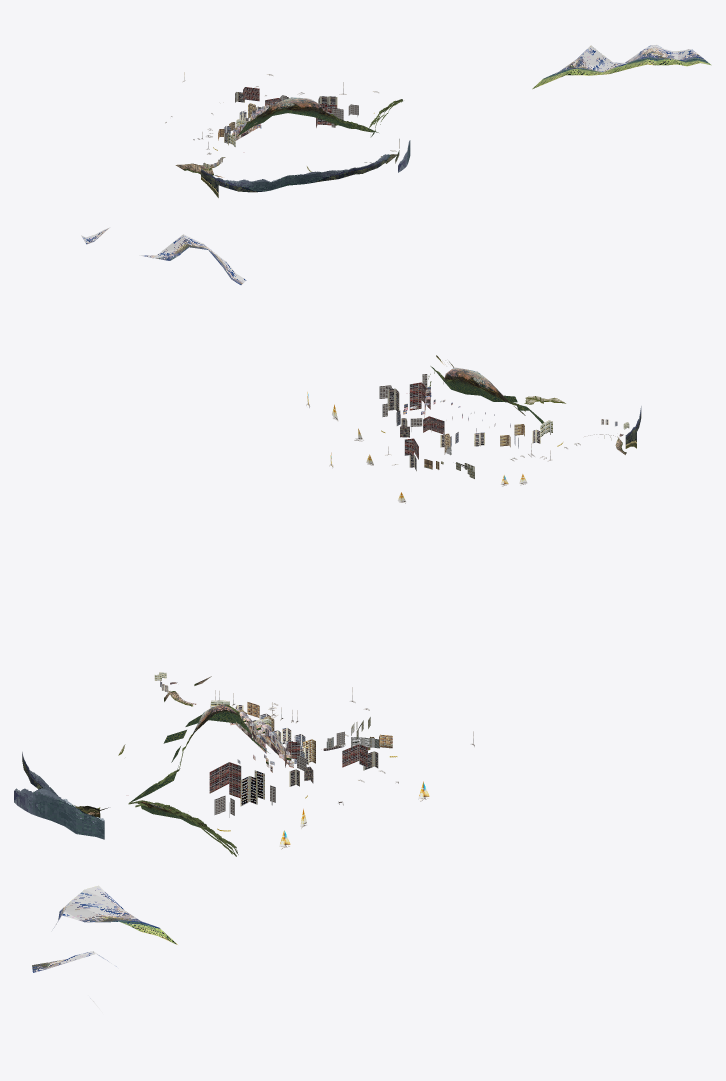
Rendered from track-EU_C3_V1_env.glb.
3 views of the same model, one above another, from view 1: azimuth 30°, elevation 25°; view 2: azimuth 150°, elevation 25°; view 3: azimuth 270°, elevation 25° (orthographic). The views are drawn at different scales.
Parts seen in each view (by area): view 1: EU_C3_V1_env; view 2: EU_C3_V1_env; view 3: EU_C3_V1_env.
Boxes of the visible parts, x1,y1,x2,y2 form: EU_C3_V1_env: (165,45,711,197); EU_C3_V1_env: (81,227,641,503); EU_C3_V1_env: (14,672,474,1012).
Size of the model in its own units: 6207 by 692 by 3853.
28 materials, 28 textured.
